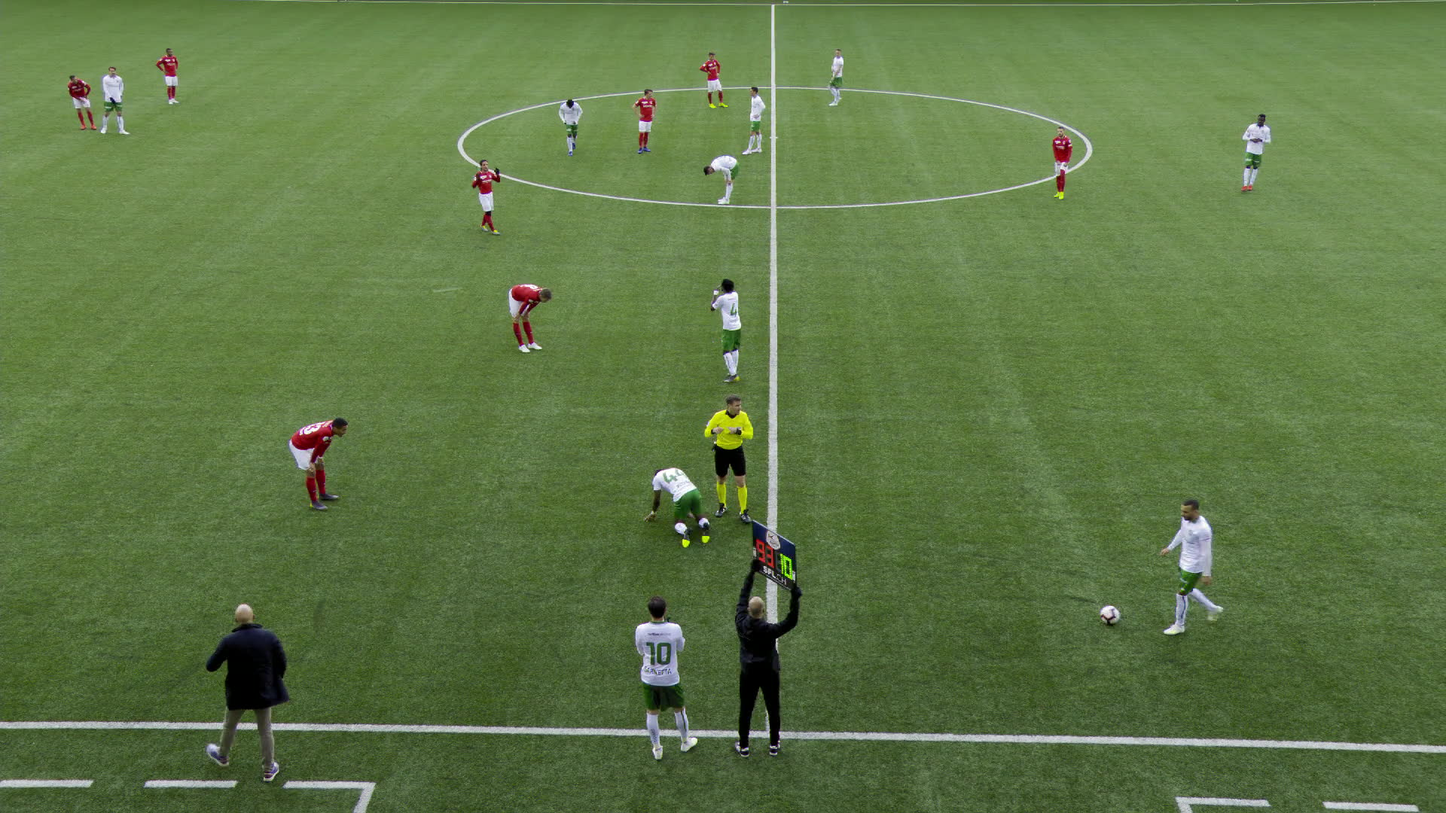ball: (1102, 604, 1124, 626)
player: (629, 595, 700, 763), (1157, 495, 1231, 639), (642, 464, 714, 550), (287, 414, 348, 512), (706, 278, 743, 385), (506, 280, 554, 353), (1234, 112, 1271, 193), (471, 157, 504, 236), (100, 65, 132, 137), (701, 154, 740, 205), (630, 87, 659, 154), (1048, 125, 1073, 201), (740, 85, 767, 155), (697, 50, 728, 109), (555, 96, 585, 156), (66, 74, 97, 130), (154, 47, 180, 105), (826, 47, 848, 107)
referee: (702, 394, 755, 525)
